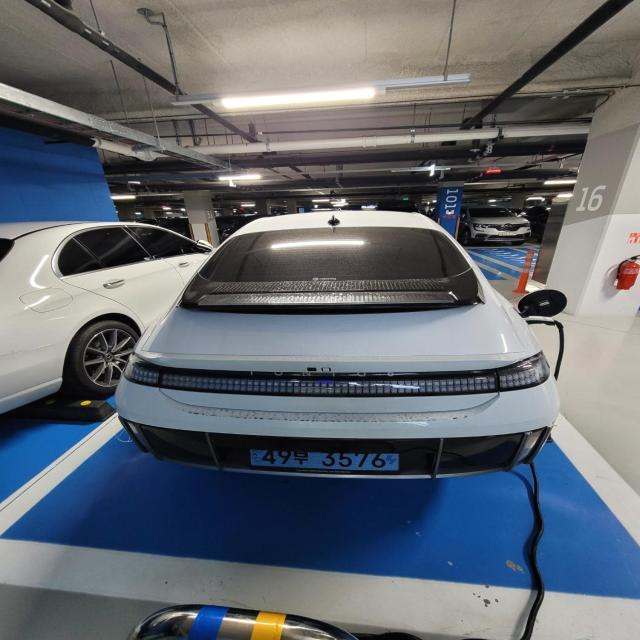EV_plate: (246, 443, 407, 480)
car: (112, 210, 564, 486)
